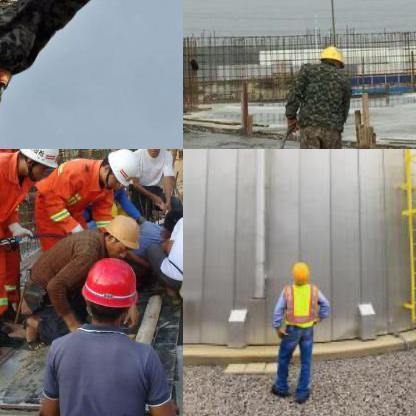Helmet: (76, 255, 140, 327), (97, 212, 141, 258), (96, 149, 142, 190), (10, 149, 64, 183), (315, 42, 346, 74), (289, 260, 311, 294)
